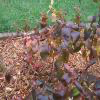Blueberry leaf: (60, 27, 71, 48), (39, 45, 49, 65), (84, 23, 92, 43), (49, 89, 63, 100), (81, 40, 93, 52), (27, 43, 39, 53), (52, 60, 62, 70), (35, 76, 44, 87), (32, 88, 40, 99), (55, 71, 62, 83)
